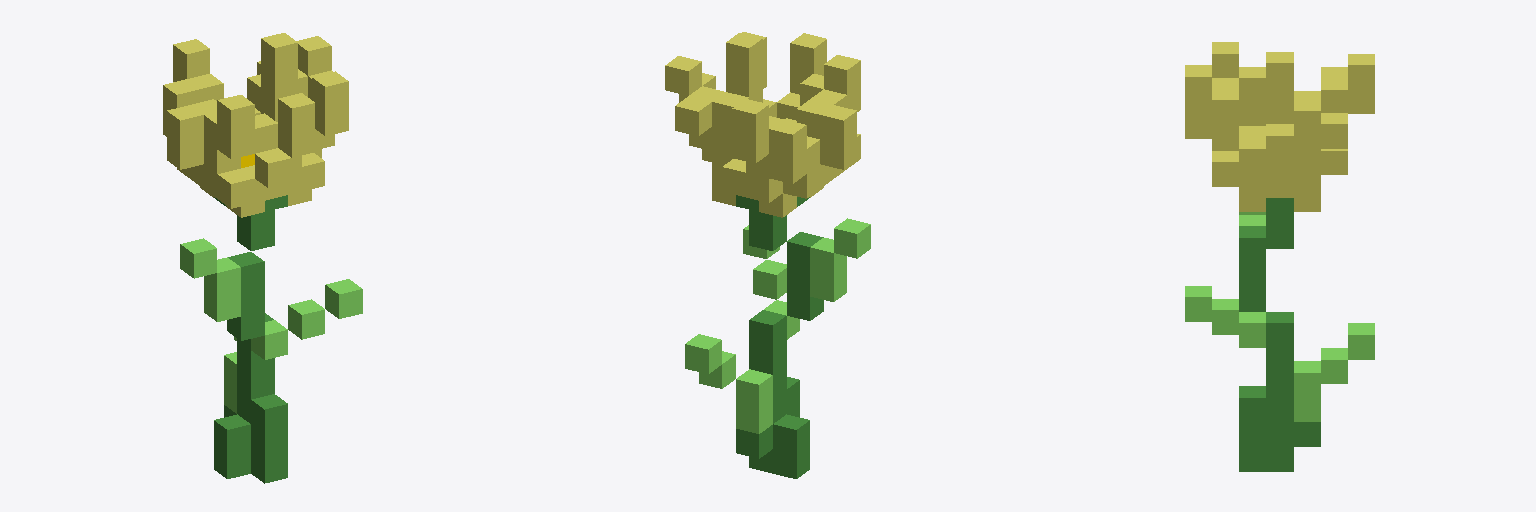
3 renders of one model, left to right at view 1: azimuth 30°, elevation 25°; view 2: azimuth 150°, elevation 25°; view 3: azimuth 270°, elevation 25°, orthographic.
Visible parts, largest first — view 1: object 1; view 2: object 1; view 3: object 1.
Boxes of the visible parts, <box> form: object 1: <box>163,33,362,483</box>; object 1: <box>665,32,870,478</box>; object 1: <box>1185,42,1374,471</box>.
Size of the model in its own units: 0.7 by 1.7 by 0.7.
1 materials, 1 textured.